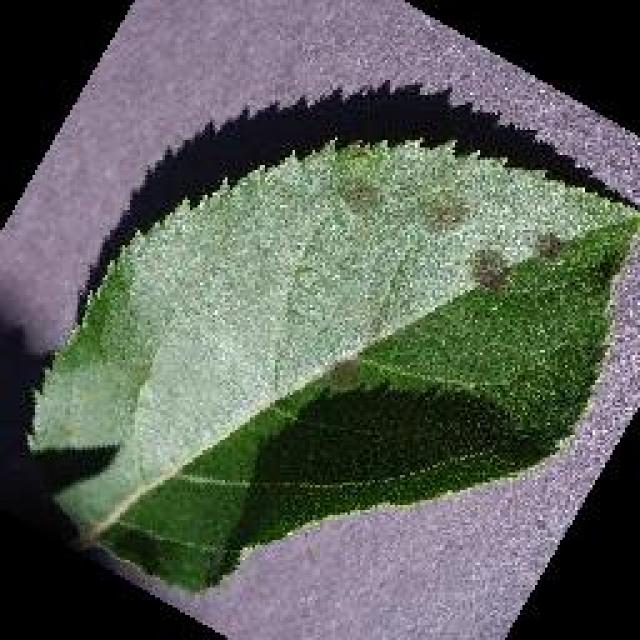apple scab disease: (22, 128, 638, 598)
